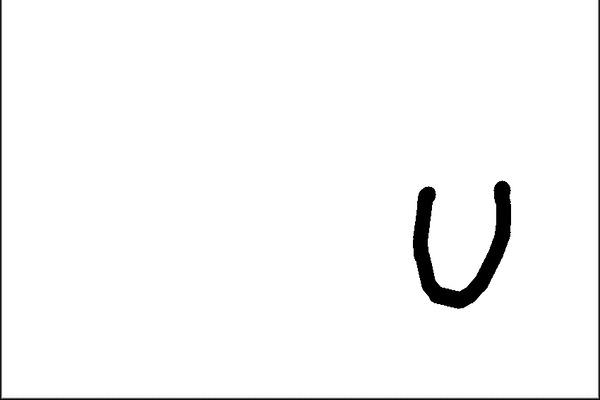U: (396, 174, 532, 308)
